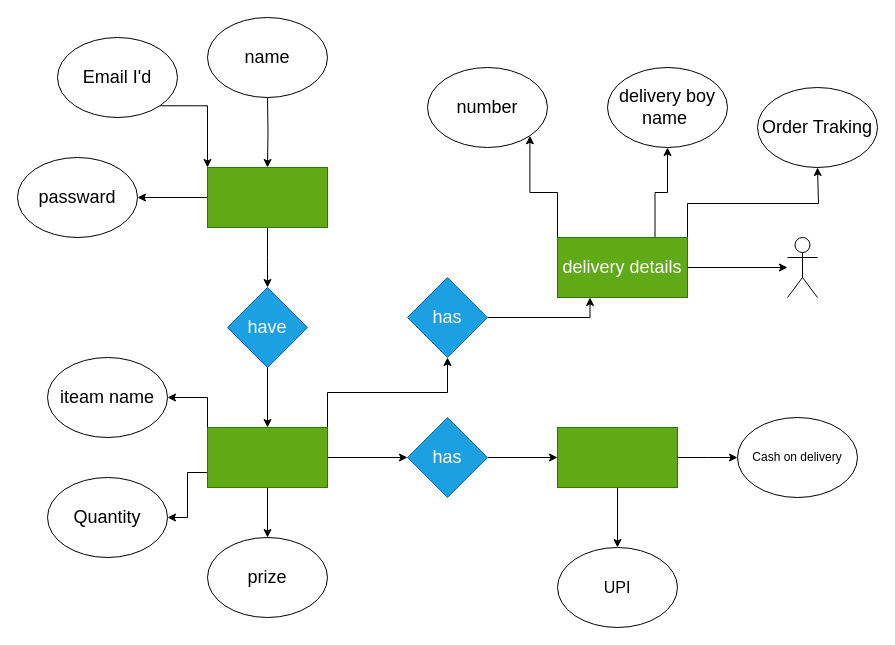
This 895x645 diagram has some shape labels left out. Here are the shapes that lost their labels. From the top down, the box of each, then its label:
(206, 166, 328, 228): login details
(786, 236, 818, 298): Actor
(206, 426, 328, 488): order details
(556, 426, 678, 488): payment details
